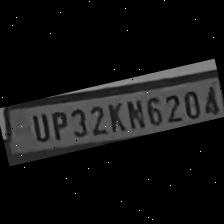0: (178, 85, 202, 119)
2: (158, 88, 185, 124), (83, 100, 109, 136)
3: (63, 104, 89, 140)
4: (196, 80, 222, 116)
6: (140, 92, 165, 126)
K: (100, 96, 127, 133)
N: (121, 94, 146, 130)
P: (45, 106, 71, 141)
U: (24, 108, 52, 144)
